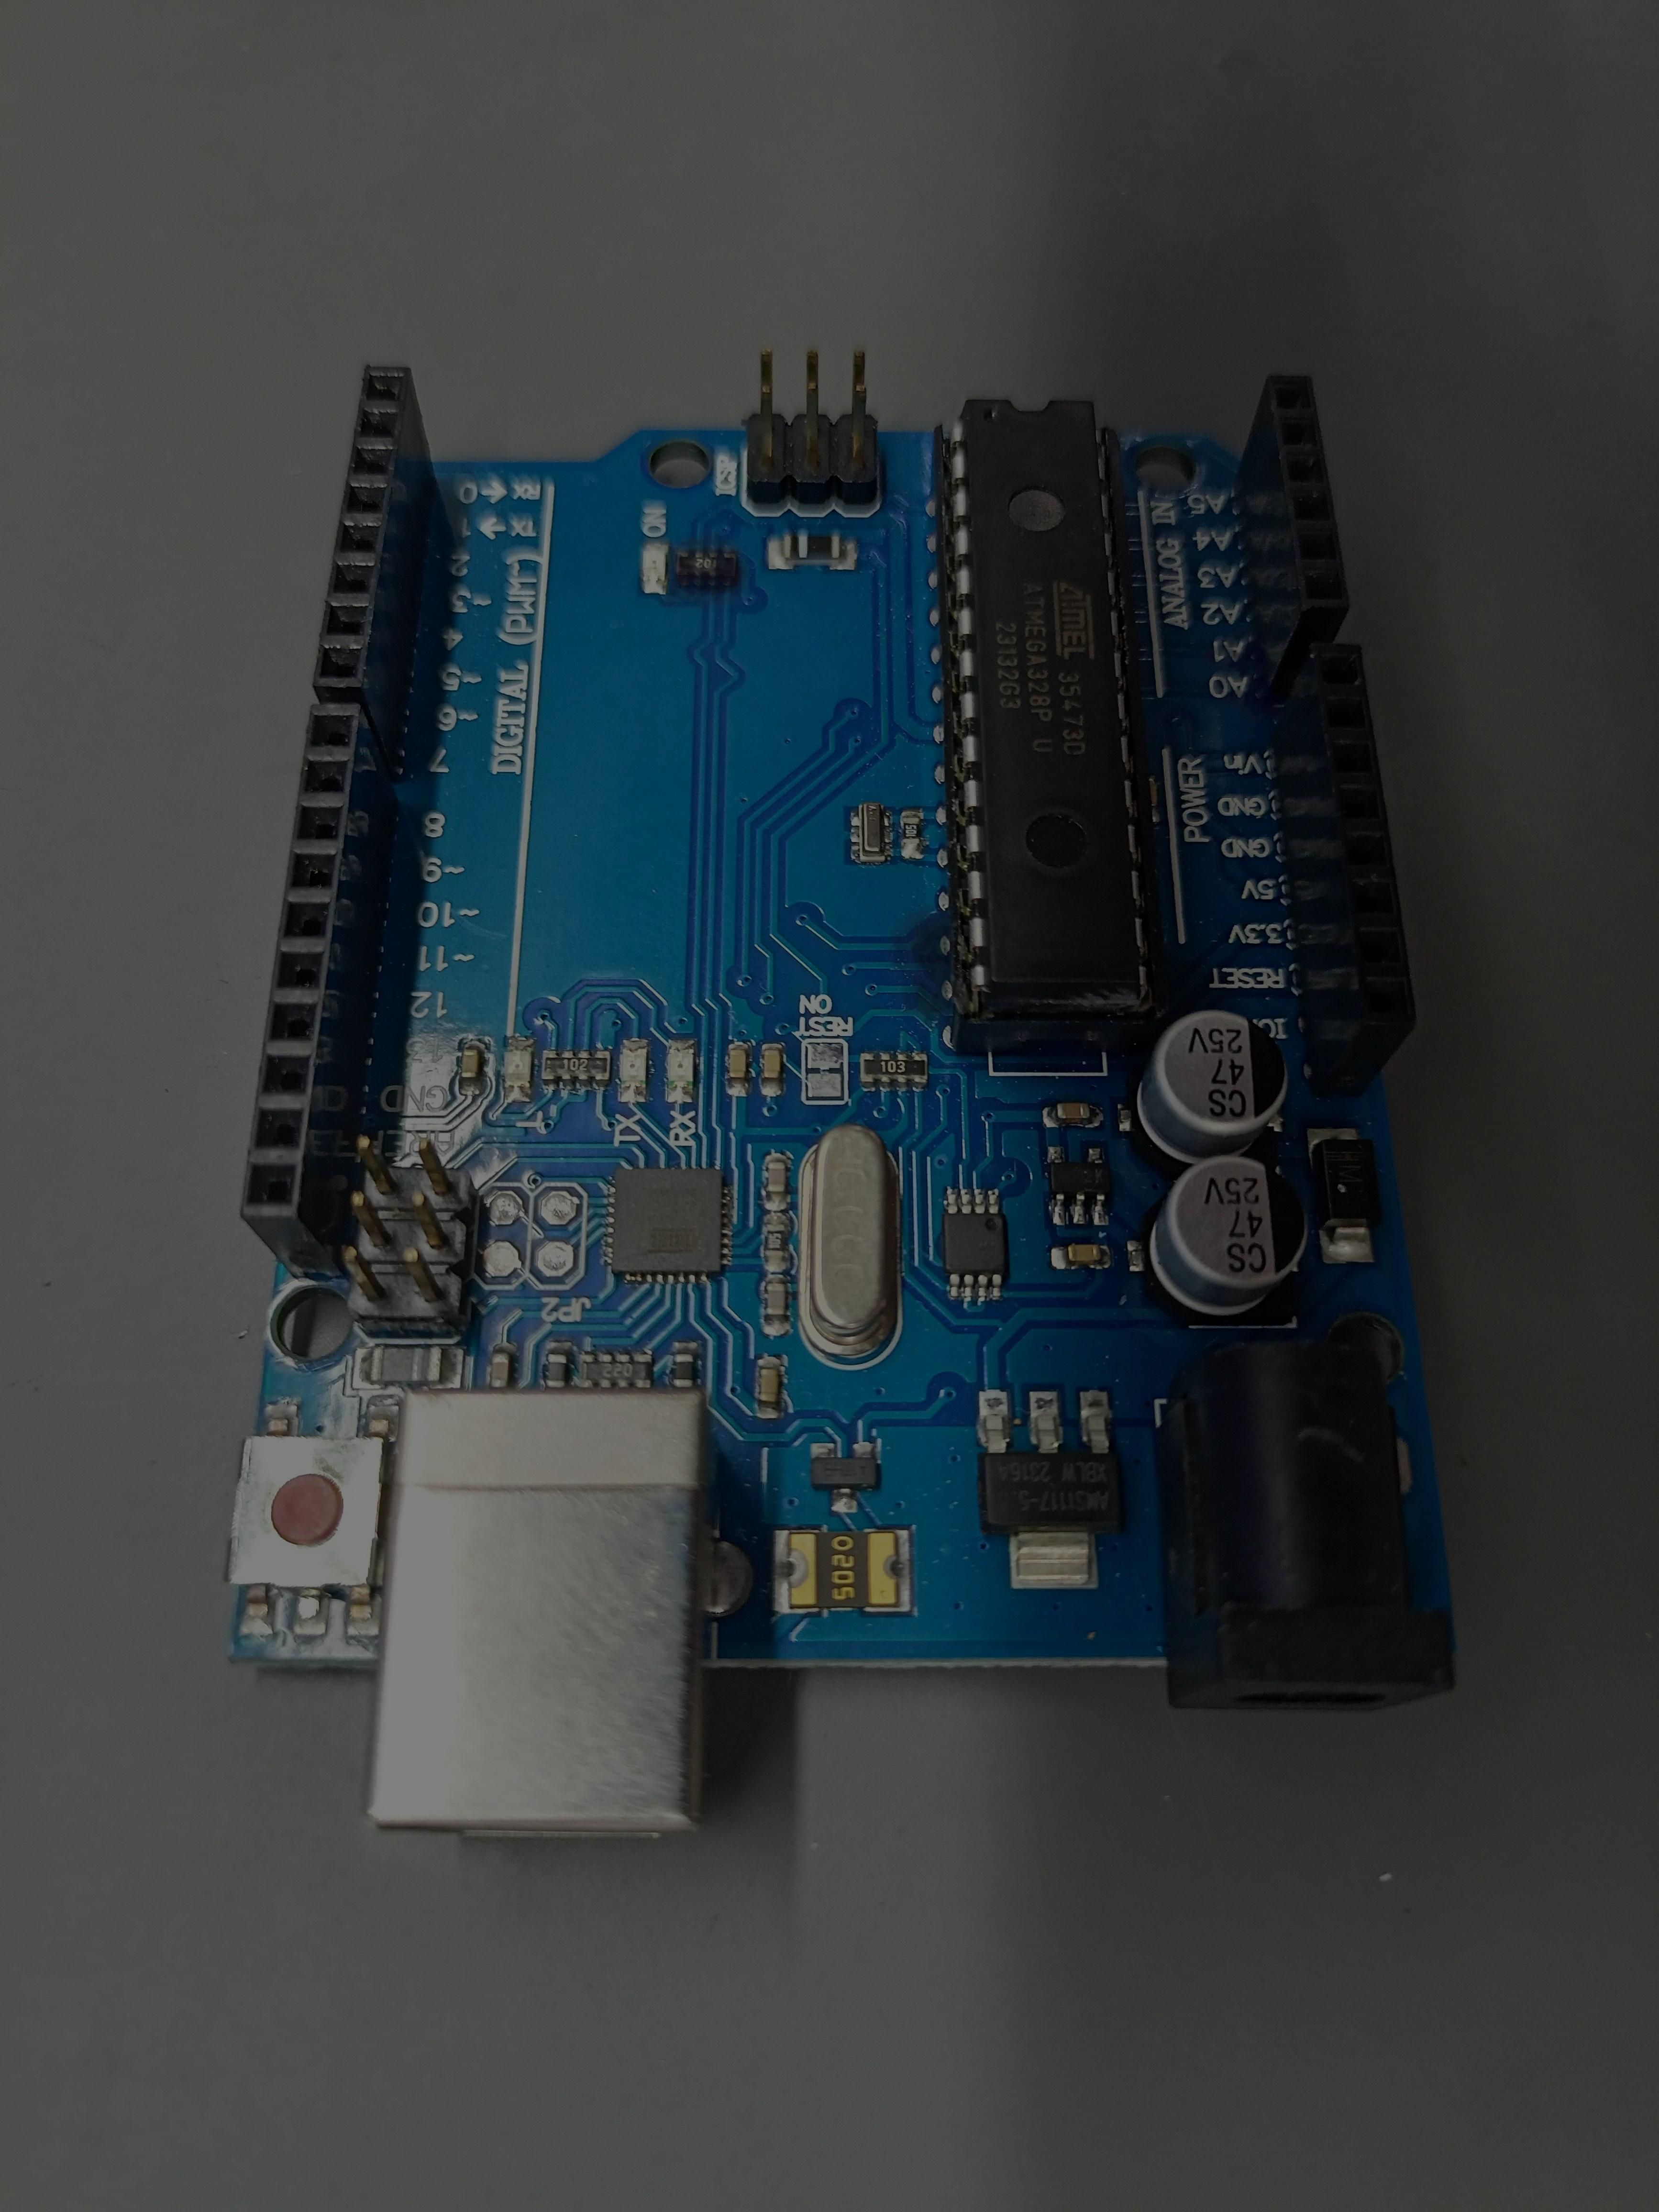ATmega328 chip: (934, 399, 1169, 1055)
Arduino board: (223, 348, 1459, 1839)
Overheat: (892, 904, 955, 1042), (1206, 629, 1284, 719), (667, 542, 746, 603)
USB: (364, 1388, 709, 1839)
capacitor: (1143, 1155, 1309, 1325), (1126, 1010, 1288, 1183)
pins: (240, 704, 399, 1278), (1269, 643, 1417, 1096), (312, 364, 436, 780), (1236, 374, 1351, 697)
resistor: (579, 1353, 652, 1388), (540, 1050, 610, 1085), (861, 1052, 927, 1089), (676, 550, 737, 583)
